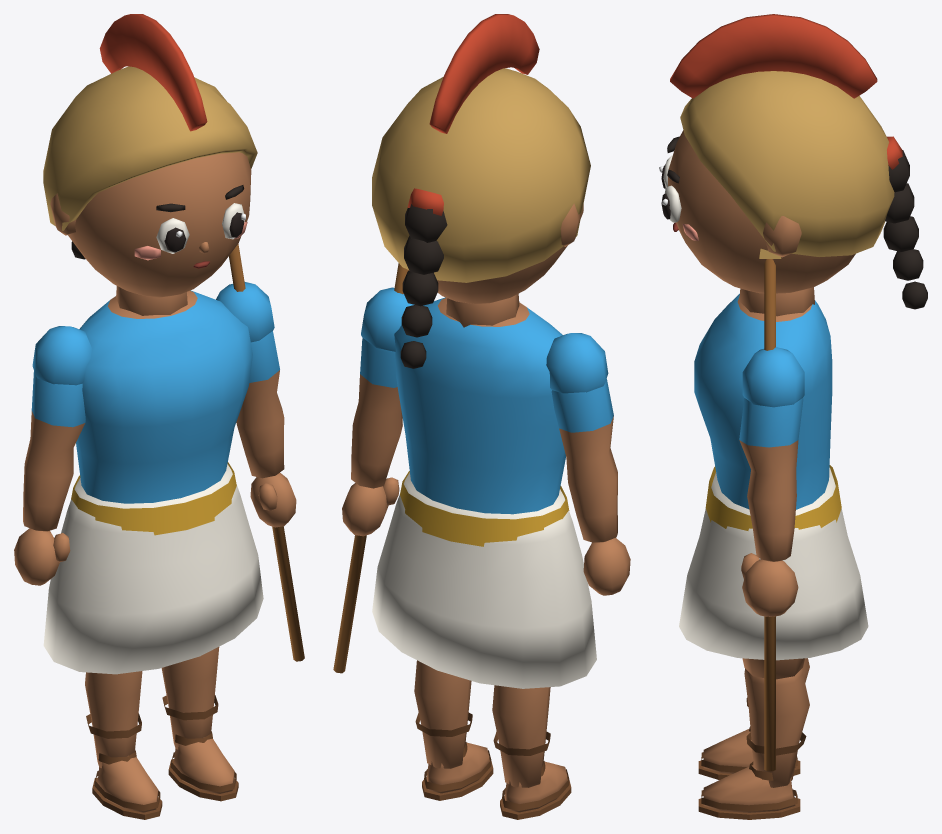
Rendered from rekrutin.glb.
3 views of the same model, side by side, from view 1: azimuth 30°, elevation 25°; view 2: azimuth 150°, elevation 25°; view 3: azimuth 270°, elevation 25° (orthographic). The views are drawn at different scales.
Visible parts, largest first — view 1: rumpf, huefte, kopfschmuck, kopf, armL, armR, knieL, knieR, itemR, augeL, augeR; view 2: kopfschmuck, rumpf, huefte, armL, armR, knieL, knieR, haare, kopf, itemR; view 3: kopfschmuck, huefte, rumpf, armR, kopf, knieR, haare, itemR, knieL, beinR, augeR.
Boxes of the visible parts, x1=… form: rumpf: x1=71, y1=290, x2=252, y2=535; huefte: x1=43, y1=464, x2=263, y2=674; kopfschmuck: x1=43, y1=14, x2=257, y2=230; kopf: x1=50, y1=152, x2=251, y2=315; armL: x1=14, y1=326, x2=92, y2=585; armR: x1=216, y1=282, x2=296, y2=527; knieL: x1=85, y1=671, x2=162, y2=819; knieR: x1=161, y1=647, x2=238, y2=801; itemR: x1=229, y1=243, x2=304, y2=661; augeL: x1=156, y1=218, x2=189, y2=253; augeR: x1=222, y1=203, x2=245, y2=239; kopfschmuck: x1=372, y1=14, x2=590, y2=282; rumpf: x1=394, y1=297, x2=569, y2=546; huefte: x1=372, y1=472, x2=596, y2=688; armL: x1=546, y1=333, x2=630, y2=595; armR: x1=342, y1=287, x2=414, y2=536; knieL: x1=492, y1=685, x2=571, y2=819; knieR: x1=414, y1=660, x2=493, y2=800; haare: x1=400, y1=188, x2=447, y2=368; kopf: x1=437, y1=203, x2=583, y2=327; itemR: x1=333, y1=263, x2=408, y2=673; kopfschmuck: x1=670, y1=14, x2=894, y2=256; huefte: x1=679, y1=467, x2=868, y2=660; rumpf: x1=694, y1=293, x2=841, y2=530; armR: x1=739, y1=347, x2=804, y2=616; kopf: x1=668, y1=130, x2=855, y2=316; knieR: x1=698, y1=668, x2=809, y2=819; haare: x1=883, y1=136, x2=927, y2=309; itemR: x1=759, y1=248, x2=781, y2=771; knieL: x1=698, y1=658, x2=809, y2=779; beinR: x1=742, y1=658, x2=804, y2=679; augeR: x1=661, y1=185, x2=681, y2=222.
Bounding box in the file's own units: 0.9714 × 2.48 × 0.7797.
